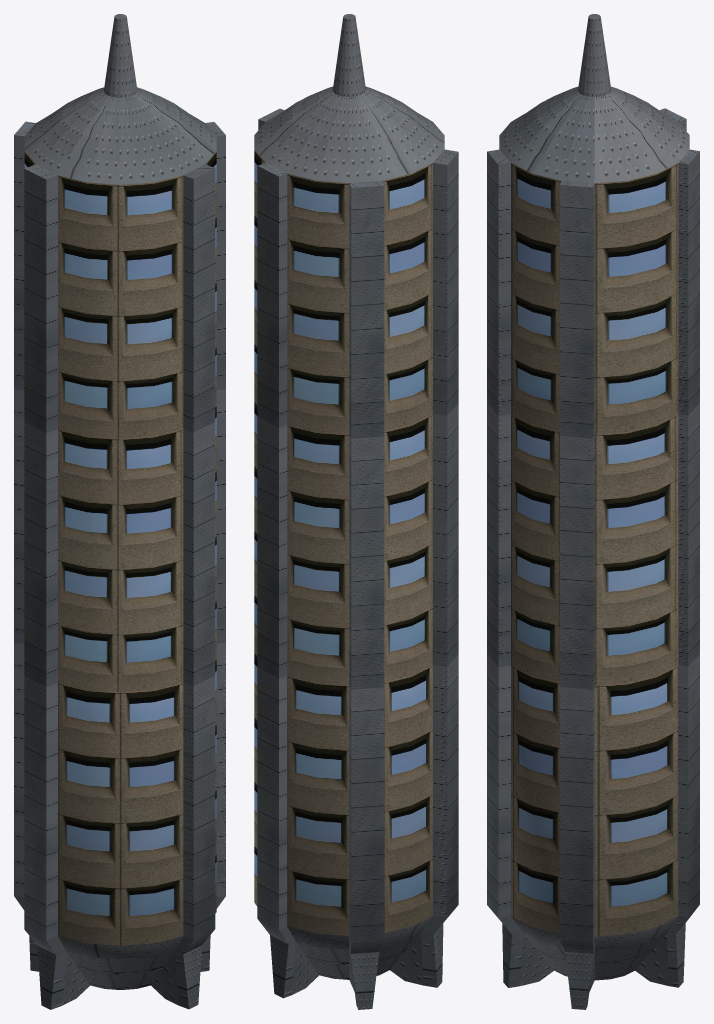
The model's file is skyscraper12.FBX.
3 views of the same model, side by side, from view 1: azimuth 30°, elevation 25°; view 2: azimuth 150°, elevation 25°; view 3: azimuth 270°, elevation 25° (orthographic).
Visible parts, largest first — view 1: Cylinder001; view 2: Cylinder001; view 3: Cylinder001.
Part boxes in pixels (x1=…): Cylinder001: x1=14, y1=14, x2=225, y2=1009; Cylinder001: x1=254, y1=14, x2=458, y2=1009; Cylinder001: x1=487, y1=14, x2=699, y2=1009.
Bounding box in the file's own units: 117 × 568 × 115.
